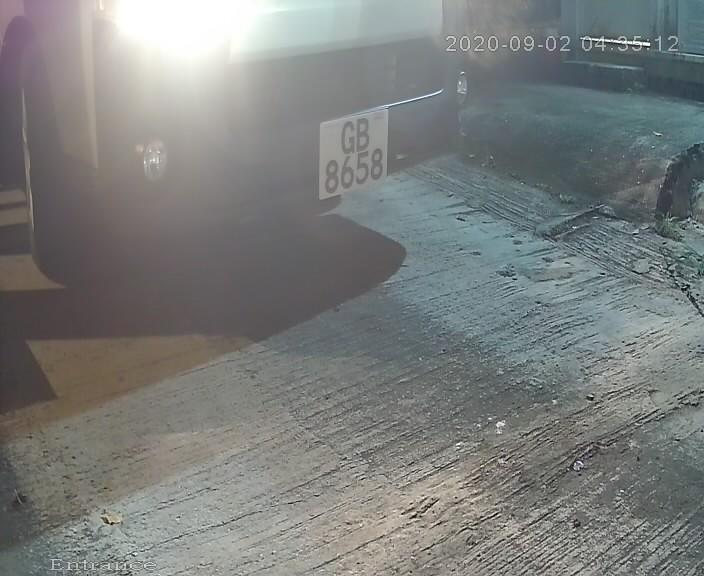License Plate: (305, 88, 406, 214)
